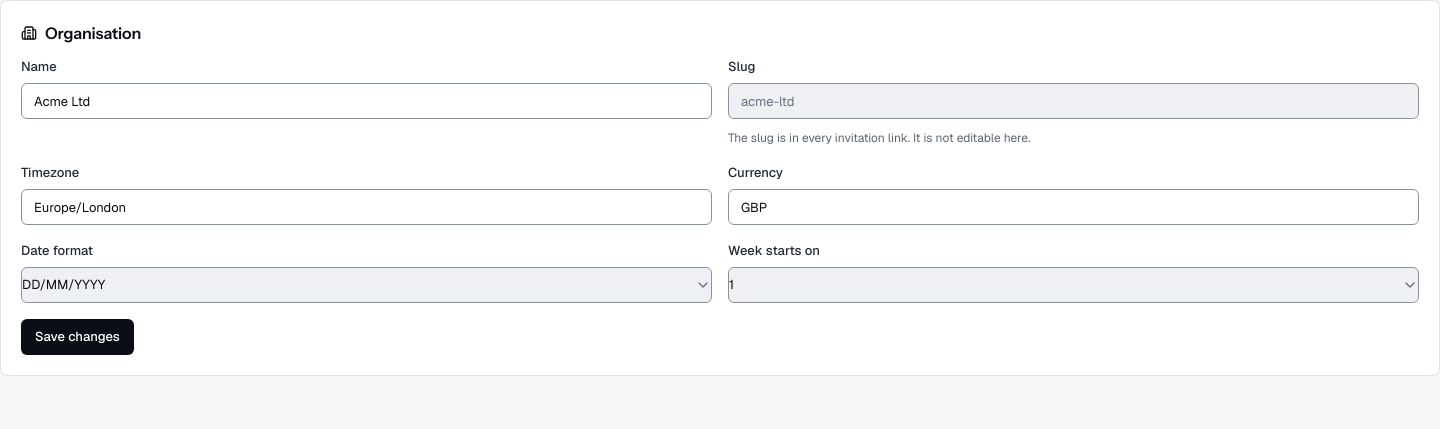
Scenario: saving › refuses to send a blank name, and says why
This screenshot has width=1440, height=429.
Clear the field labelled "Name" at x=366, y=101, box [21,83,712,119]
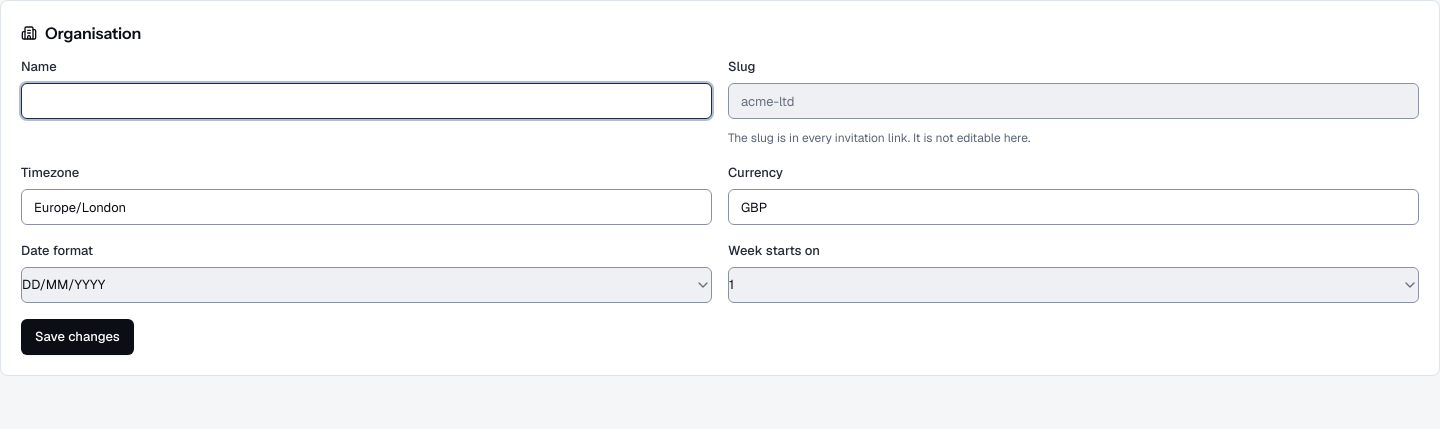
Click the button "Save changes" at x=77, y=337, box [21,319,134,355]
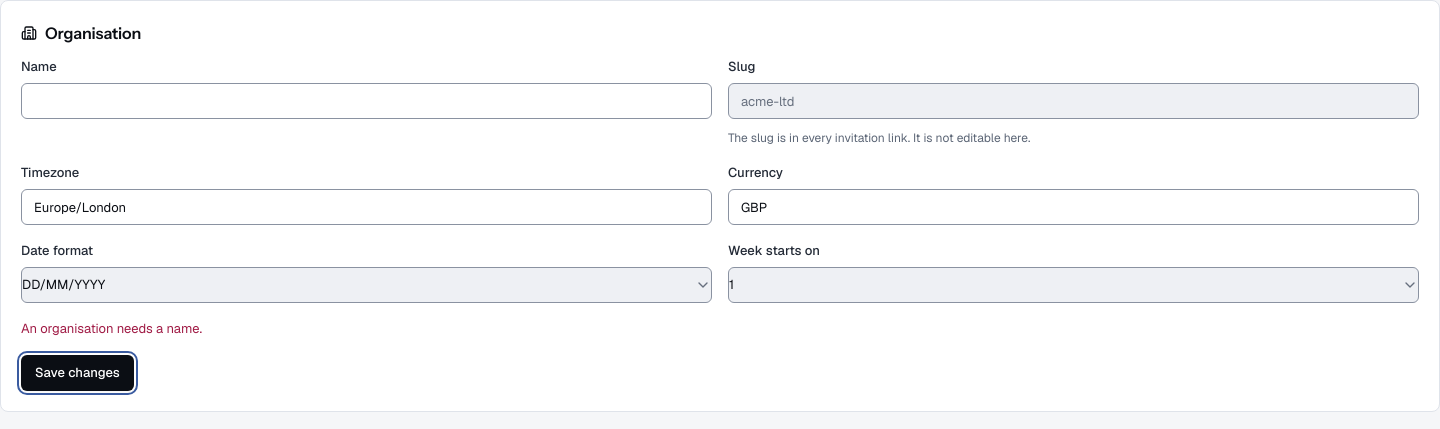
expect the message "An organisation needs a name." is shown: met, box [21,320,202,337]
